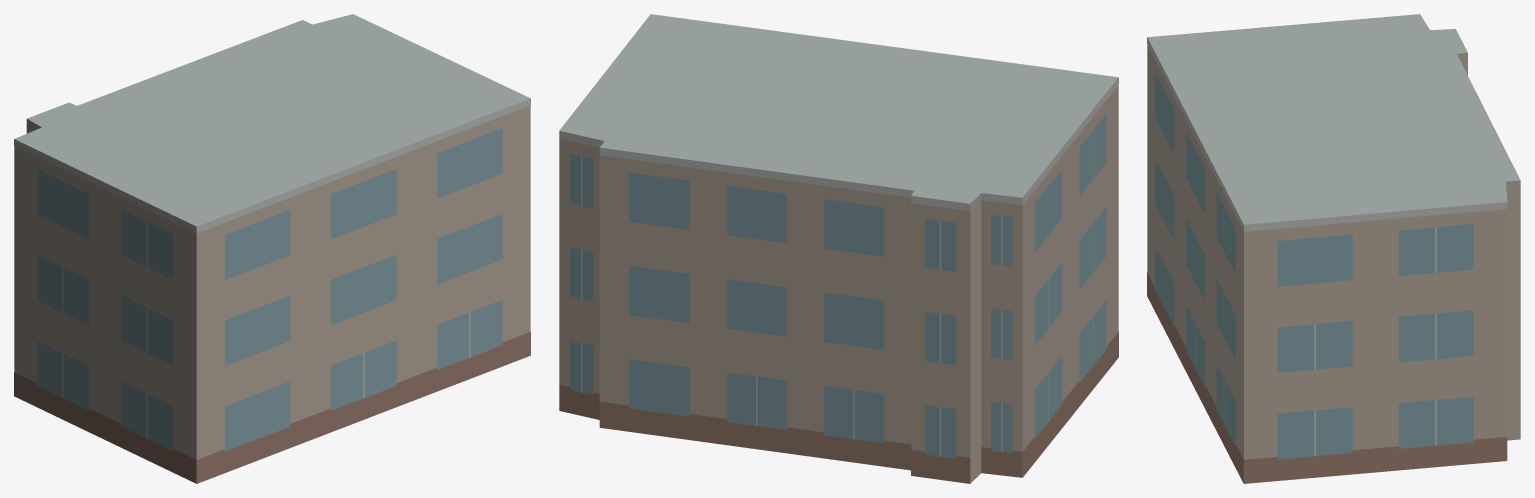
Rendered from survey-upis-32749809.glb.
The picture shows the model from 3 angles, left to right: view 1: azimuth 30°, elevation 25°; view 2: azimuth 150°, elevation 25°; view 3: azimuth 270°, elevation 25°; orthographic projection. The views are drawn at different scales.
Parts seen in each view (by area): view 1: survey-upis-32749809.tmp; view 2: survey-upis-32749809.tmp; view 3: survey-upis-32749809.tmp.
Part boxes in pixels (bbox=[...]): survey-upis-32749809.tmp: bbox=[14, 14, 530, 483]; survey-upis-32749809.tmp: bbox=[559, 14, 1118, 483]; survey-upis-32749809.tmp: bbox=[1147, 14, 1520, 483].
Size of the model in its own units: 15.98 by 9.15 by 11.97.
